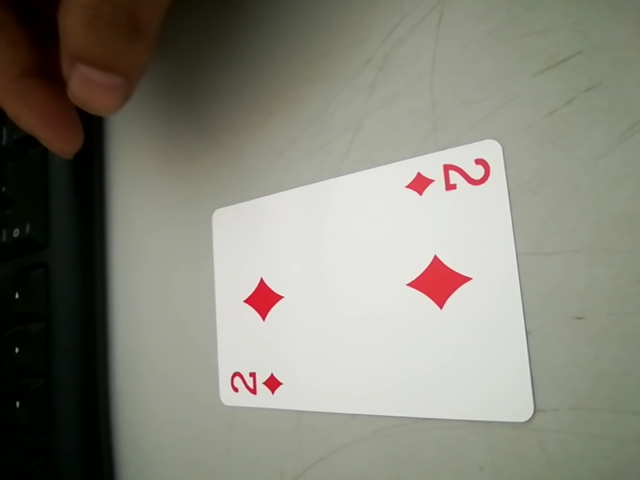fk 2: (402, 153, 500, 205), (222, 362, 290, 403)
